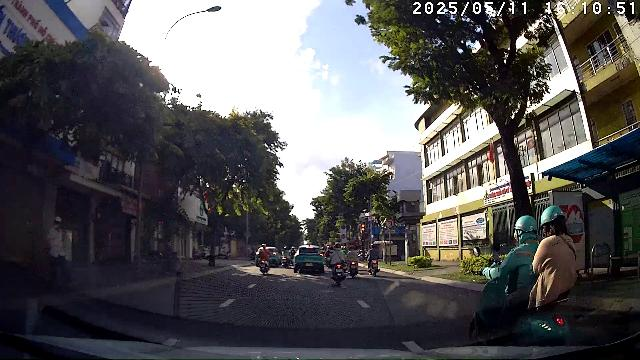103c-cam-oto-re-trai: (385, 219, 395, 229)
